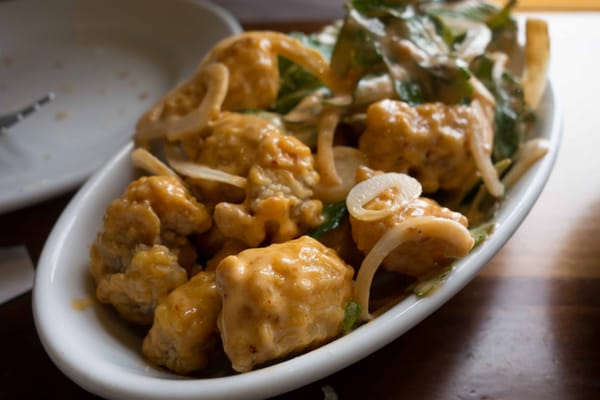sushi: (27, 5, 582, 392)
